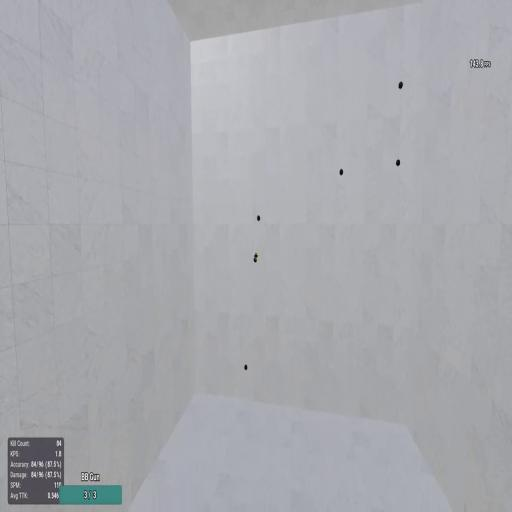Crosshair: (254, 251, 258, 260)
Target: (398, 81, 404, 89), (339, 168, 343, 176), (396, 159, 400, 167), (253, 256, 257, 263), (257, 214, 260, 222), (244, 364, 248, 370)
